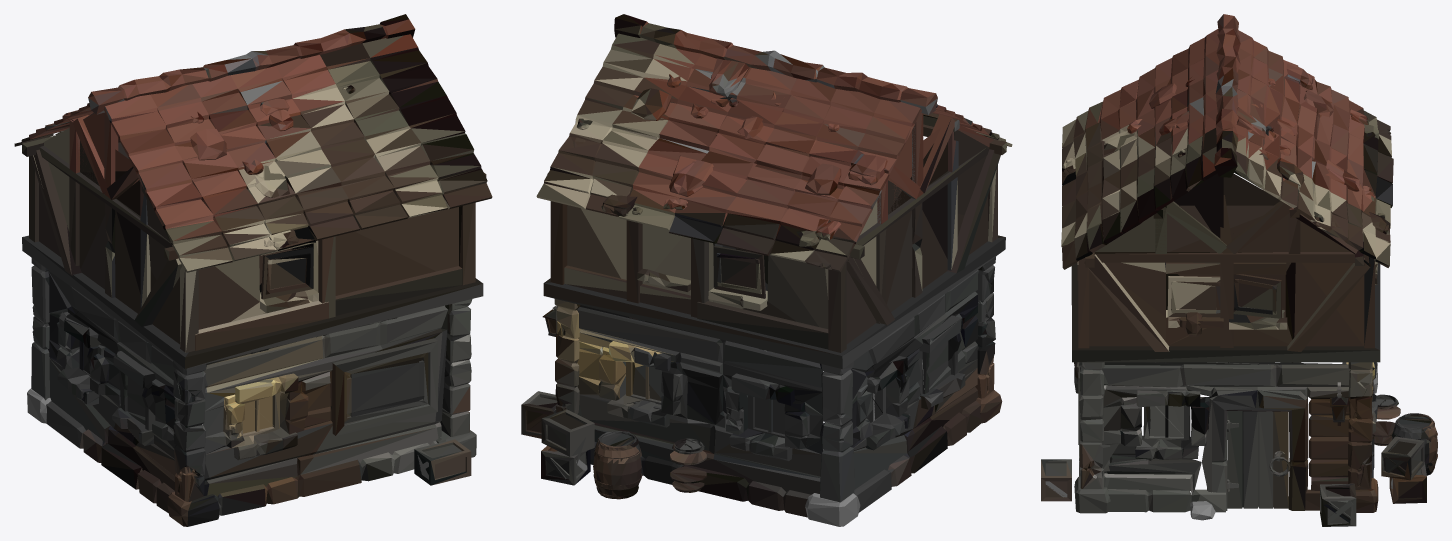
Rendered from Barracks.glb.
3 renders of one model, left to right at view 1: azimuth 30°, elevation 25°; view 2: azimuth 150°, elevation 25°; view 3: azimuth 270°, elevation 25°, orthographic. The views are drawn at different scales.
Parts seen in each view (by area): view 1: world; view 2: world; view 3: world.
Part boxes in pixels (bbox=[...]): world: bbox=[14, 14, 492, 526]; world: bbox=[521, 14, 1012, 526]; world: bbox=[1041, 14, 1437, 526].
Size of the model in its own units: 0.9512 by 0.998 by 0.998.
